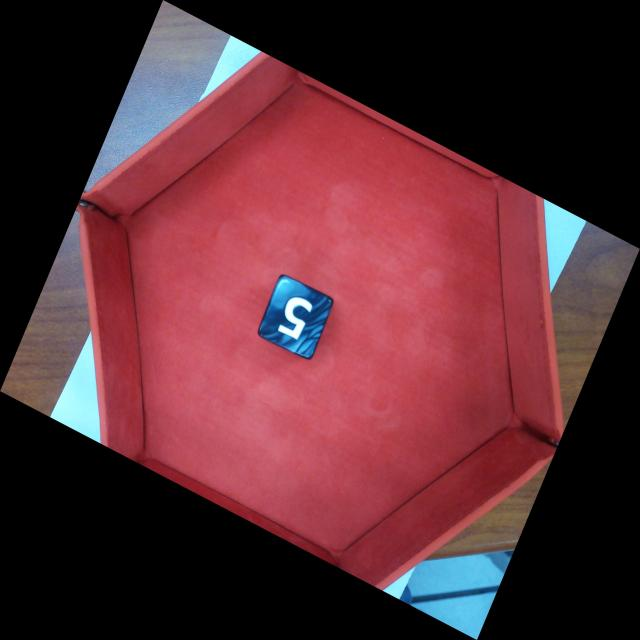dice: (258, 277, 341, 361)
